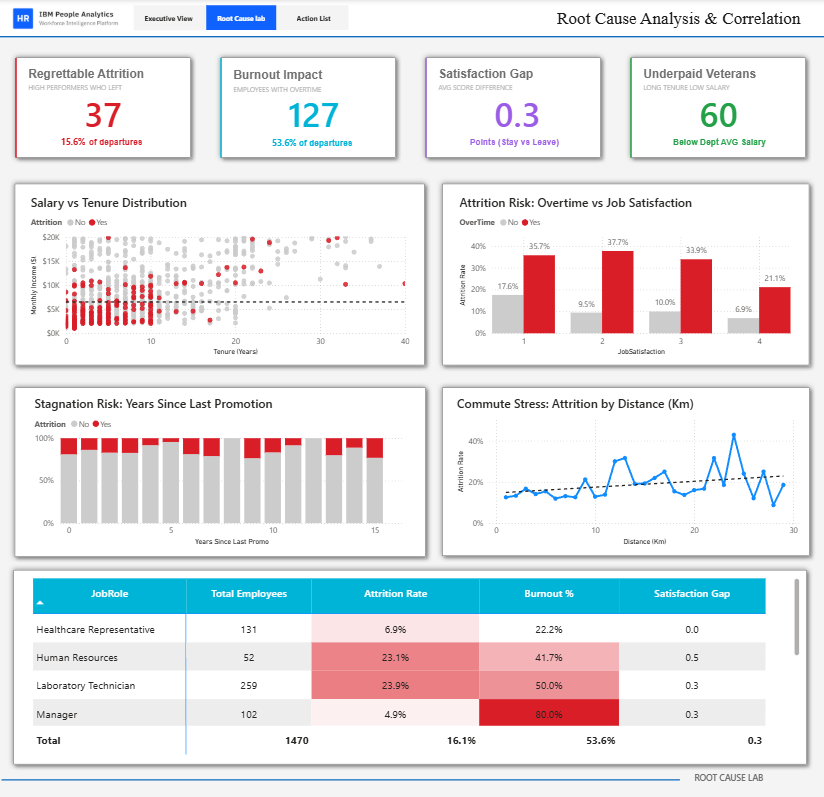

Layout of this report page (visuals, bound fields, positions):
{"tool":"powerbi","page":{"name":"02_Investigation","canvas":[1280,1250],"ordinal":2},"visuals":[{"type":"shape","box":[0,0,1280,60],"z":0},{"type":"group","id":"g1","title":"Group 9","box":[675.6,594,588,279.7],"z":0,"group":"g27"},{"type":"image","box":[8.8,7.5,183.8,45],"z":1000},{"type":"shape","box":[15,81.7,289.1,173.6],"z":1000,"group":"g15"},{"type":"shape","box":[333.1,81.7,289.1,173.6],"z":1000,"group":"g16"},{"type":"shape","box":[651.3,81.7,289.1,173.6],"z":1000,"group":"g17"},{"type":"shape","box":[969.4,81.7,289.1,173.6],"z":1000,"group":"g18"},{"type":"shape","box":[13.1,277.3,654.3,300],"z":1000,"group":"g26"},{"type":"group","id":"g2","title":"Group 10","box":[13,593.1,655.7,281],"z":1000,"group":"g27"},{"type":"shape","box":[13,593.1,655.7,281],"z":1000,"group":"g2"},{"type":"shape","box":[19.3,1175,1052.5,72.5],"z":1000,"group":"g24"},{"type":"shape","box":[11.4,875.7,1248.6,320],"z":2000},{"type":"textbox","box":[1071.8,1195,151.2,33.8],"z":2000,"group":"g24"},{"type":"shape","box":[0,49.1,1280,20],"z":3000},{"type":"shape","box":[208,10.5,332.5,38.5],"z":4000},{"type":"actionButton","box":[319.8,10.5,108.5,38.8],"z":5000},{"type":"actionButton","box":[207.5,10,108.3,39.2],"z":6000},{"type":"actionButton","box":[432.2,10.4,108.3,38.7],"z":7000},{"type":"textbox","box":[858.7,10,389.7,40.2],"z":8000},{"type":"group","id":"g3","title":"Group 4","box":[15,81.7,306.7,173.6],"z":9000},{"type":"group","id":"g4","title":"Group 3","box":[15,81.7,289.1,173.6],"z":10000,"group":"g3"},{"type":"group","id":"g5","title":"Group 2","box":[15,81.7,289.1,173.6],"z":10000,"group":"g4"},{"type":"group","id":"g6","title":"Group 4","box":[333.1,81.7,289.1,173.6],"z":10000},{"type":"group","id":"g7","title":"Group 3","box":[333.1,81.7,289.1,173.6],"z":10000,"group":"g6"},{"type":"group","id":"g8","title":"Group 2","box":[333.1,81.7,289.1,173.6],"z":10000,"group":"g7"},{"type":"group","id":"g9","title":"Group 3","box":[651.3,81.7,289.1,173.6],"z":10000,"group":"g13"},{"type":"group","id":"g10","title":"Group 2","box":[651.3,81.7,289.1,173.6],"z":10000,"group":"g9"},{"type":"group","id":"g11","title":"Group 3","box":[969.4,81.7,289.1,173.6],"z":10000,"group":"g14"},{"type":"group","id":"g12","title":"Group 2","box":[969.4,81.7,289.1,173.6],"z":10000,"group":"g11"},{"type":"group","id":"g13","title":"Group 4","box":[651.3,81.7,291.7,175],"z":11000},{"type":"group","id":"g14","title":"Group 4","box":[969.4,81.7,291.7,175],"z":12000},{"type":"group","id":"g15","title":"Group 1","box":[15,81.7,289.1,173.6],"z":13000,"group":"g20"},{"type":"group","id":"g16","title":"Group 1","box":[333.1,81.7,289.1,173.6],"z":13000,"group":"g21"},{"type":"group","id":"g17","title":"Group 1","box":[651.3,81.7,289.1,173.6],"z":13000,"group":"g22"},{"type":"group","id":"g18","title":"Group 1","box":[969.4,81.7,289.1,173.6],"z":13000,"group":"g23"},{"type":"cardVisual","fields":{"Data":["_Key Measures.Talent Drain %"]},"box":[90.7,200,56.4,41.4],"z":13000},{"type":"textbox","box":[32.3,208.4,289.3,40],"z":14000,"group":"g3"},{"type":"textbox","box":[654,208.6,289.1,40],"z":14000,"group":"g13"},{"type":"textbox","box":[972.1,208.6,289.1,40],"z":14000,"group":"g14"},{"type":"group","id":"g19","title":"Group 6","box":[359,209.2,290,41.7],"z":14000},{"type":"textbox","box":[359,209.2,289.5,40.7],"z":14000,"group":"g19"},{"type":"group","id":"g20","title":"Group 5","box":[15,81.7,289.1,173.6],"z":15000,"group":"g5"},{"type":"group","id":"g21","title":"Group 5","box":[333.1,81.7,289.1,173.6],"z":15000,"group":"g8"},{"type":"group","id":"g22","title":"Group 5","box":[651.3,81.7,289.1,173.6],"z":15000,"group":"g10"},{"type":"group","id":"g23","title":"Group 5","box":[969.4,81.7,289.1,173.6],"z":15000,"group":"g12"},{"type":"scatterChart","title":"Salary vs Tenure Distribution","fields":{"Category":["vw_hr_master.EmployeeNumber"],"X":["Sum(vw_hr_master.YearsAtCompany)"],"Y":["Sum(vw_hr_master.MonthlyIncome)"],"Series":["vw_hr_master.Attrition"]},"box":[42.7,301.9,597.6,256],"z":15000,"group":"g26"},{"type":"group","id":"g24","title":"Group 7","box":[19.3,1175,1202.9,72.9],"z":15000},{"type":"textbox","box":[38.3,101.7,237.8,58.9],"z":16000,"group":"g20"},{"type":"textbox","box":[674.6,101.7,237.8,58.9],"z":16000,"group":"g22"},{"type":"textbox","box":[992.7,101.7,237.8,58.9],"z":16000,"group":"g23"},{"type":"textbox","box":[356.3,102.1,254.4,58.9],"z":16000,"group":"g21"},{"type":"group","id":"g25","title":"Group 12","box":[13,277.3,1250.7,596.8],"z":16000},{"type":"shape","box":[676,277.3,587.7,300],"z":16000,"group":"g26"},{"type":"shape","box":[675.6,594,588,279.7],"z":16000,"group":"g1"},{"type":"shape","box":[19.6,91,10.7,155.4],"z":17000,"group":"g4"},{"type":"shape","box":[337.7,91,10.7,155.4],"z":17000,"group":"g7"},{"type":"shape","box":[655.9,91,10.7,155.4],"z":17000,"group":"g9"},{"type":"shape","box":[974,91,10.7,155.4],"z":17000,"group":"g11"},{"type":"group","id":"g26","title":"Group 8","box":[13.1,277.3,1250.6,300],"z":17000,"group":"g25"},{"type":"clusteredColumnChart","title":"Attrition Risk: Overtime vs Job Satisfaction","fields":{"Category":["vw_hr_master.JobSatisfaction"],"Y":["_Key Measures.Attrition Rate"],"Series":["vw_hr_master.OverTime"]},"box":[706.8,301.9,523.7,256],"z":17000,"group":"g26"},{"type":"pivotTable","fields":{"Rows":["vw_hr_master.JobRole"],"Values":["_Key Measures.Total Employees","_Key Measures.Attrition Rate","_Key Measures.Burnout %","_Key Measures.Satisfaction Gap"]},"box":[45.7,892.9,1198.6,282.9],"z":17000},{"type":"cardVisual","fields":{"Data":["_Key Measures.Talent Drain"]},"box":[126.6,139.5,84.4,73.3],"z":18000,"group":"g20"},{"type":"cardVisual","fields":{"Data":["_Key Measures.Satisfaction Gap"]},"box":[762.9,139.5,84.4,73.3],"z":18000,"group":"g22"},{"type":"cardVisual","fields":{"Data":["_Key Measures.Underpaid Vet Leavers"]},"box":[1081,139.5,84.4,73.3],"z":18000,"group":"g23"},{"type":"cardVisual","fields":{"Data":["_Key Measures.Burnout Leavers"]},"box":[442.9,139.8,93.3,73.3],"z":18000,"group":"g21"},{"type":"hundredPercentStackedColumnChart","title":"Stagnation Risk: Years Since Last Promotion","fields":{"Category":["vw_hr_master.YearsSinceLastPromotion"],"Y":["CountNonNull(vw_hr_master.Attrition)"],"Series":["vw_hr_master.Attrition"]},"box":[48.4,615.2,583,238.4],"z":18000,"group":"g2"},{"type":"lineChart","title":"Commute Stress: Attrition by Distance (Km)","fields":{"Category":["vw_hr_master.DistanceFromHome"],"Y":["_Key Measures.Attrition Rate"]},"box":[703.1,614.8,541.7,238.2],"z":18001,"group":"g1"},{"type":"cardVisual","fields":{"Data":["_Key Measures.Burnout %"]},"box":[418.3,209.2,51.2,25.6],"z":18002,"group":"g19"},{"type":"group","id":"g27","title":"Group 11","box":[13,593.1,1250.6,281],"z":18004,"group":"g25"}]}

Visuals, with their boxes in screenshot pixels (x1, y1, x2, y2), scaled from the page's 1280x1250 canvas onto the 824x797 screenshot:
shape: [left=0, top=0, right=823, bottom=38]
"Group 9" group: [left=435, top=379, right=813, bottom=557]
image: [left=6, top=5, right=124, bottom=33]
shape: [left=10, top=52, right=196, bottom=163]
shape: [left=214, top=52, right=401, bottom=163]
shape: [left=419, top=52, right=605, bottom=163]
shape: [left=624, top=52, right=810, bottom=163]
shape: [left=8, top=177, right=430, bottom=368]
"Group 10" group: [left=8, top=378, right=430, bottom=557]
shape: [left=8, top=378, right=430, bottom=557]
shape: [left=12, top=749, right=690, bottom=795]
shape: [left=7, top=558, right=811, bottom=762]
textbox: [left=690, top=762, right=787, bottom=783]
shape: [left=0, top=31, right=823, bottom=44]
shape: [left=134, top=7, right=348, bottom=31]
actionButton: [left=206, top=7, right=276, bottom=31]
actionButton: [left=134, top=6, right=203, bottom=31]
actionButton: [left=278, top=7, right=348, bottom=31]
textbox: [left=553, top=6, right=804, bottom=32]
"Group 4" group: [left=10, top=52, right=207, bottom=163]
"Group 3" group: [left=10, top=52, right=196, bottom=163]
"Group 2" group: [left=10, top=52, right=196, bottom=163]
"Group 4" group: [left=214, top=52, right=401, bottom=163]
"Group 3" group: [left=214, top=52, right=401, bottom=163]
"Group 2" group: [left=214, top=52, right=401, bottom=163]
"Group 3" group: [left=419, top=52, right=605, bottom=163]
"Group 2" group: [left=419, top=52, right=605, bottom=163]
"Group 3" group: [left=624, top=52, right=810, bottom=163]
"Group 2" group: [left=624, top=52, right=810, bottom=163]
"Group 4" group: [left=419, top=52, right=607, bottom=164]
"Group 4" group: [left=624, top=52, right=812, bottom=164]
"Group 1" group: [left=10, top=52, right=196, bottom=163]
"Group 1" group: [left=214, top=52, right=401, bottom=163]
"Group 1" group: [left=419, top=52, right=605, bottom=163]
"Group 1" group: [left=624, top=52, right=810, bottom=163]
cardVisual - _Key Measures.Talent Drain %: [left=58, top=128, right=95, bottom=154]
textbox: [left=21, top=133, right=207, bottom=158]
textbox: [left=421, top=133, right=607, bottom=159]
textbox: [left=626, top=133, right=812, bottom=159]
"Group 6" group: [left=231, top=133, right=418, bottom=160]
textbox: [left=231, top=133, right=417, bottom=159]
"Group 5" group: [left=10, top=52, right=196, bottom=163]
"Group 5" group: [left=214, top=52, right=401, bottom=163]
"Group 5" group: [left=419, top=52, right=605, bottom=163]
"Group 5" group: [left=624, top=52, right=810, bottom=163]
"Salary vs Tenure Distribution" scatterChart: [left=27, top=192, right=412, bottom=356]
"Group 7" group: [left=12, top=749, right=787, bottom=796]
textbox: [left=25, top=65, right=178, bottom=102]
textbox: [left=434, top=65, right=587, bottom=102]
textbox: [left=639, top=65, right=792, bottom=102]
textbox: [left=229, top=65, right=393, bottom=103]
"Group 12" group: [left=8, top=177, right=814, bottom=557]
shape: [left=435, top=177, right=814, bottom=368]
shape: [left=435, top=379, right=813, bottom=557]
shape: [left=13, top=58, right=20, bottom=157]
shape: [left=217, top=58, right=224, bottom=157]
shape: [left=422, top=58, right=429, bottom=157]
shape: [left=627, top=58, right=634, bottom=157]
"Group 8" group: [left=8, top=177, right=814, bottom=368]
"Attrition Risk: Overtime vs Job Satisfaction" clusteredColumnChart: [left=455, top=192, right=792, bottom=356]
pivotTable - vw_hr_master.JobRole x _Key Measures.Total Employees: [left=29, top=569, right=801, bottom=750]
cardVisual - _Key Measures.Talent Drain: [left=81, top=89, right=136, bottom=136]
cardVisual - _Key Measures.Satisfaction Gap: [left=491, top=89, right=545, bottom=136]
cardVisual - _Key Measures.Underpaid Vet Leavers: [left=696, top=89, right=750, bottom=136]
cardVisual - _Key Measures.Burnout Leavers: [left=285, top=89, right=345, bottom=136]
"Stagnation Risk: Years Since Last Promotion" hundredPercentStackedColumnChart: [left=31, top=392, right=406, bottom=544]
"Commute Stress: Attrition by Distance (Km)" lineChart: [left=453, top=392, right=801, bottom=544]
cardVisual - _Key Measures.Burnout %: [left=269, top=133, right=302, bottom=150]
"Group 11" group: [left=8, top=378, right=813, bottom=557]
